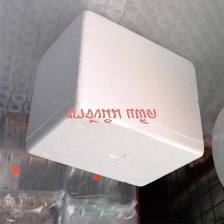foam_box: (19, 6, 207, 190)
